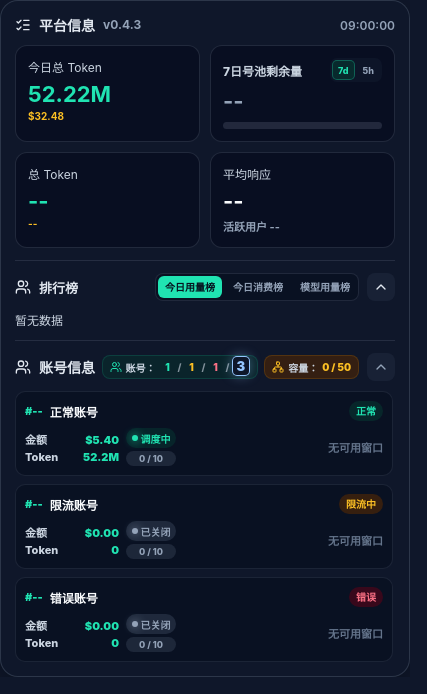
it: App settings sync › filters normal and errored account details while expanded by default
The image size is (427, 694).
Click the 1st button with class "account-status-filter".
click(168, 367)  # box [160, 358, 176, 376]
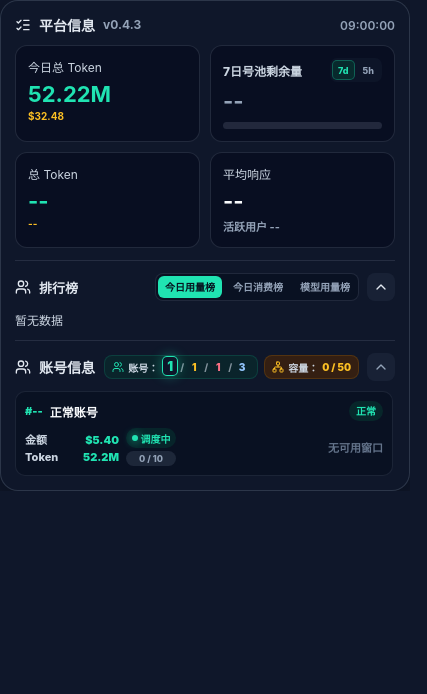
Check: the element with class "account-details-list" is shown, box [15, 391, 395, 476]
Check: the text "限流账号" is gone
Check: the text "错误账号" is gone
Click the 3rd button with class "account-status-filter".
click(218, 367)  # box [210, 358, 226, 376]
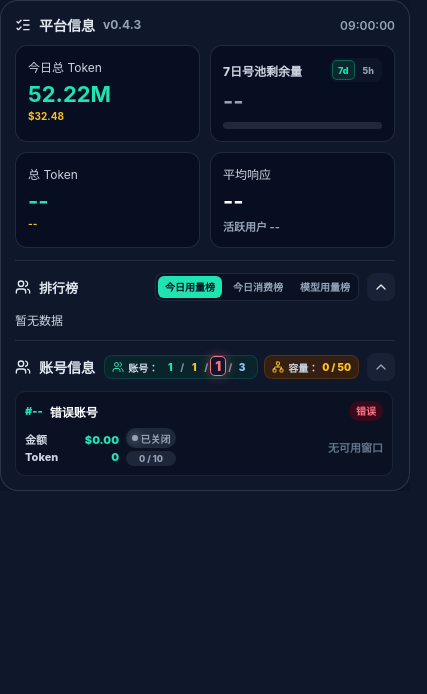
Check: the text "错误账号" is shown, box [50, 402, 98, 420]
Check: the text "正常账号" is gone
